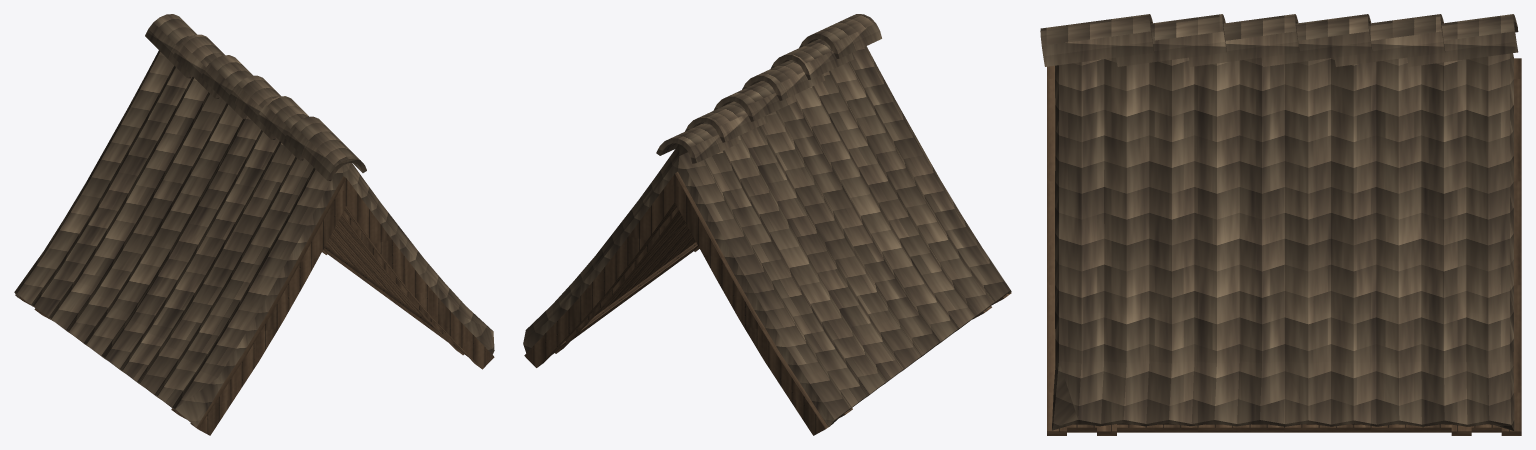
File: Roof_Shingle_4x4.gltf
The picture shows the model from 3 angles, left to right: view 1: azimuth 30°, elevation 25°; view 2: azimuth 150°, elevation 25°; view 3: azimuth 270°, elevation 25°; orthographic projection. The views are drawn at different scales.
Parts seen in each view (by area): view 1: Roof_Shingle_4x4; view 2: Roof_Shingle_4x4; view 3: Roof_Shingle_4x4.
Boxes of the visible parts, x1,y1,x2,y2 form: Roof_Shingle_4x4: (14, 14, 494, 435); Roof_Shingle_4x4: (523, 14, 1011, 435); Roof_Shingle_4x4: (1040, 14, 1521, 435).
Bounding box in the file's own units: 5.51 × 4.25 × 5.56.
Materials: 2 (2 with a texture image).
